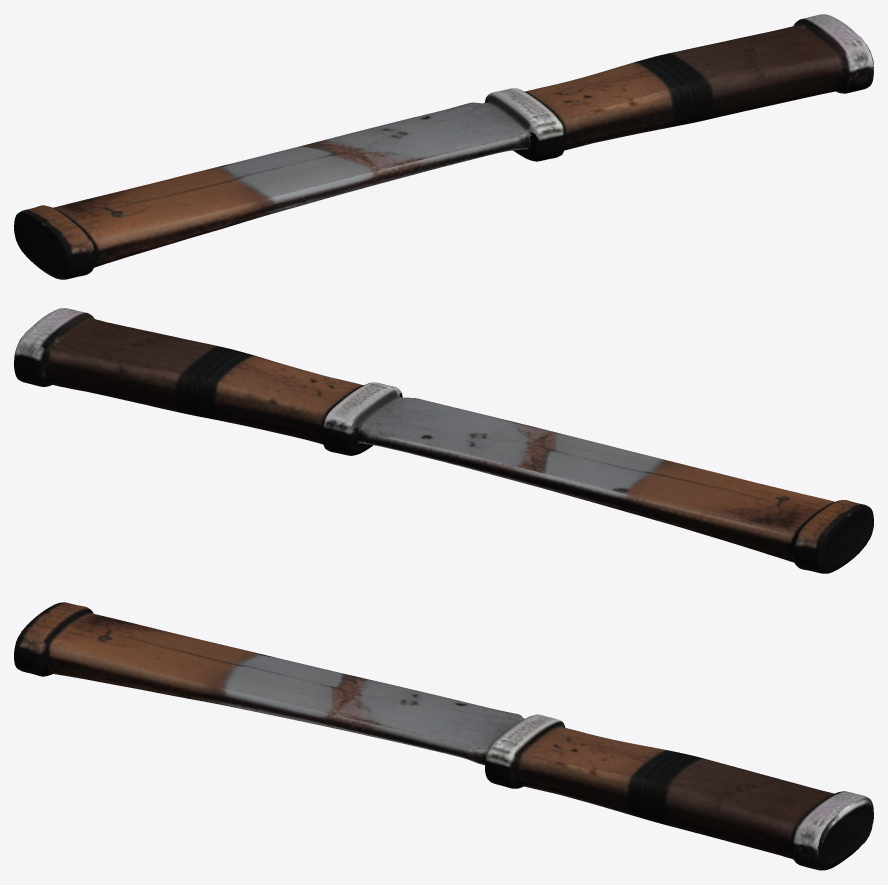
Rendered from catalog-weapon-20.glb.
3 renders of one model, top to bottom at view 1: azimuth 30°, elevation 25°; view 2: azimuth 150°, elevation 25°; view 3: azimuth 330°, elevation 25°, orthographic.
Visible parts, largest first — view 1: tmphlly7o4w.ply; view 2: tmphlly7o4w.ply; view 3: tmphlly7o4w.ply.
Boxes of the visible parts, bbox=[...] form: tmphlly7o4w.ply: bbox=[14, 14, 873, 279]; tmphlly7o4w.ply: bbox=[14, 308, 873, 573]; tmphlly7o4w.ply: bbox=[14, 602, 873, 870].
Size of the model in its own units: 1.96 by 0.1241 by 0.2389.
1 material, 1 textured.
